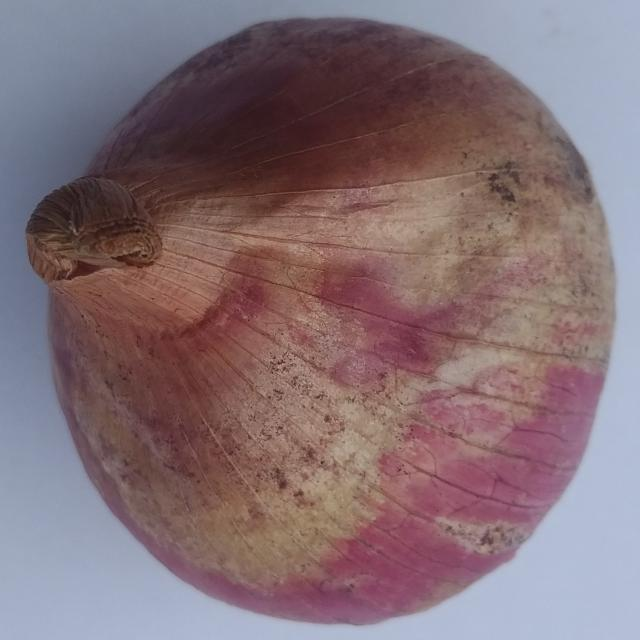onion: (24, 15, 619, 629)
